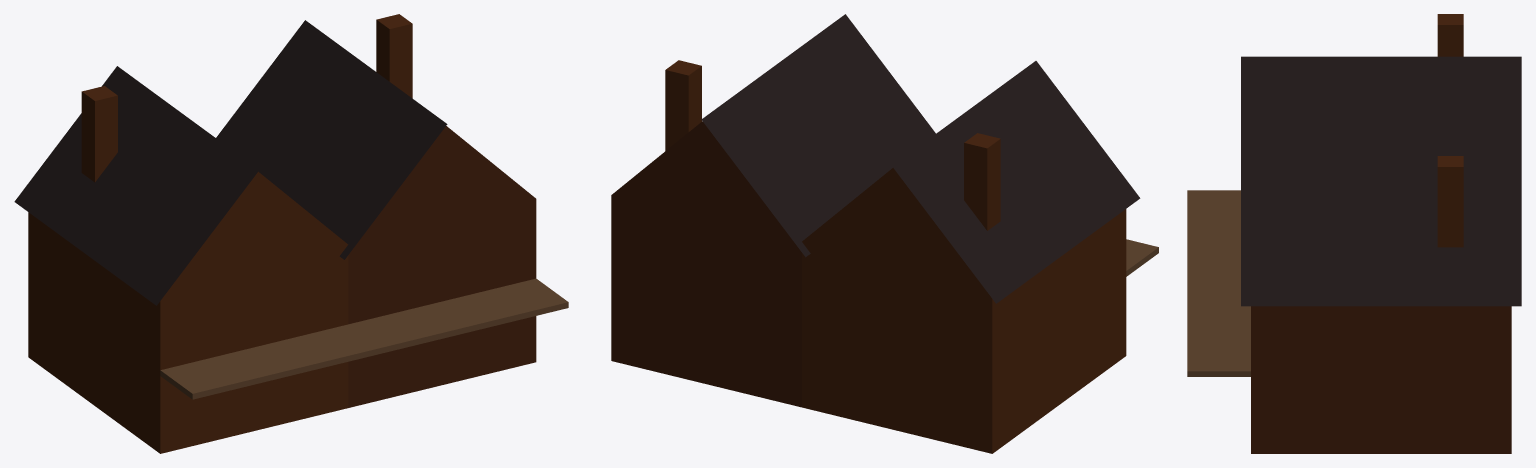
File: rw-cabin-duplex.towns-v1.lod2.glb
3 renders of one model, left to right at view 1: azimuth 30°, elevation 25°; view 2: azimuth 150°, elevation 25°; view 3: azimuth 270°, elevation 25°, orthographic. The views are drawn at different scales.
Visible parts, largest first — view 1: rw-cabin-duplex; view 2: rw-cabin-duplex; view 3: rw-cabin-duplex.
Part boxes in pixels (bbox=[...]): rw-cabin-duplex: bbox=[14, 14, 568, 453]; rw-cabin-duplex: bbox=[611, 14, 1158, 453]; rw-cabin-duplex: bbox=[1187, 14, 1521, 453].
Bounding box in the file's own units: 15.5 × 10.4 × 11.55.
